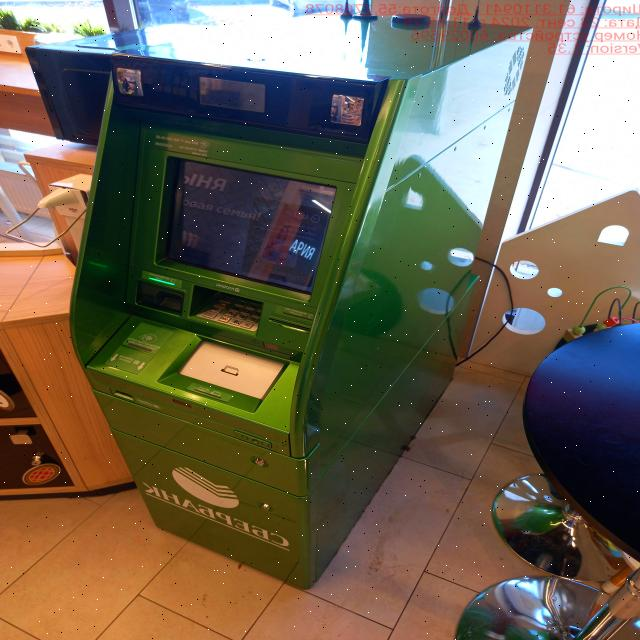bank: (66, 22, 524, 584)
